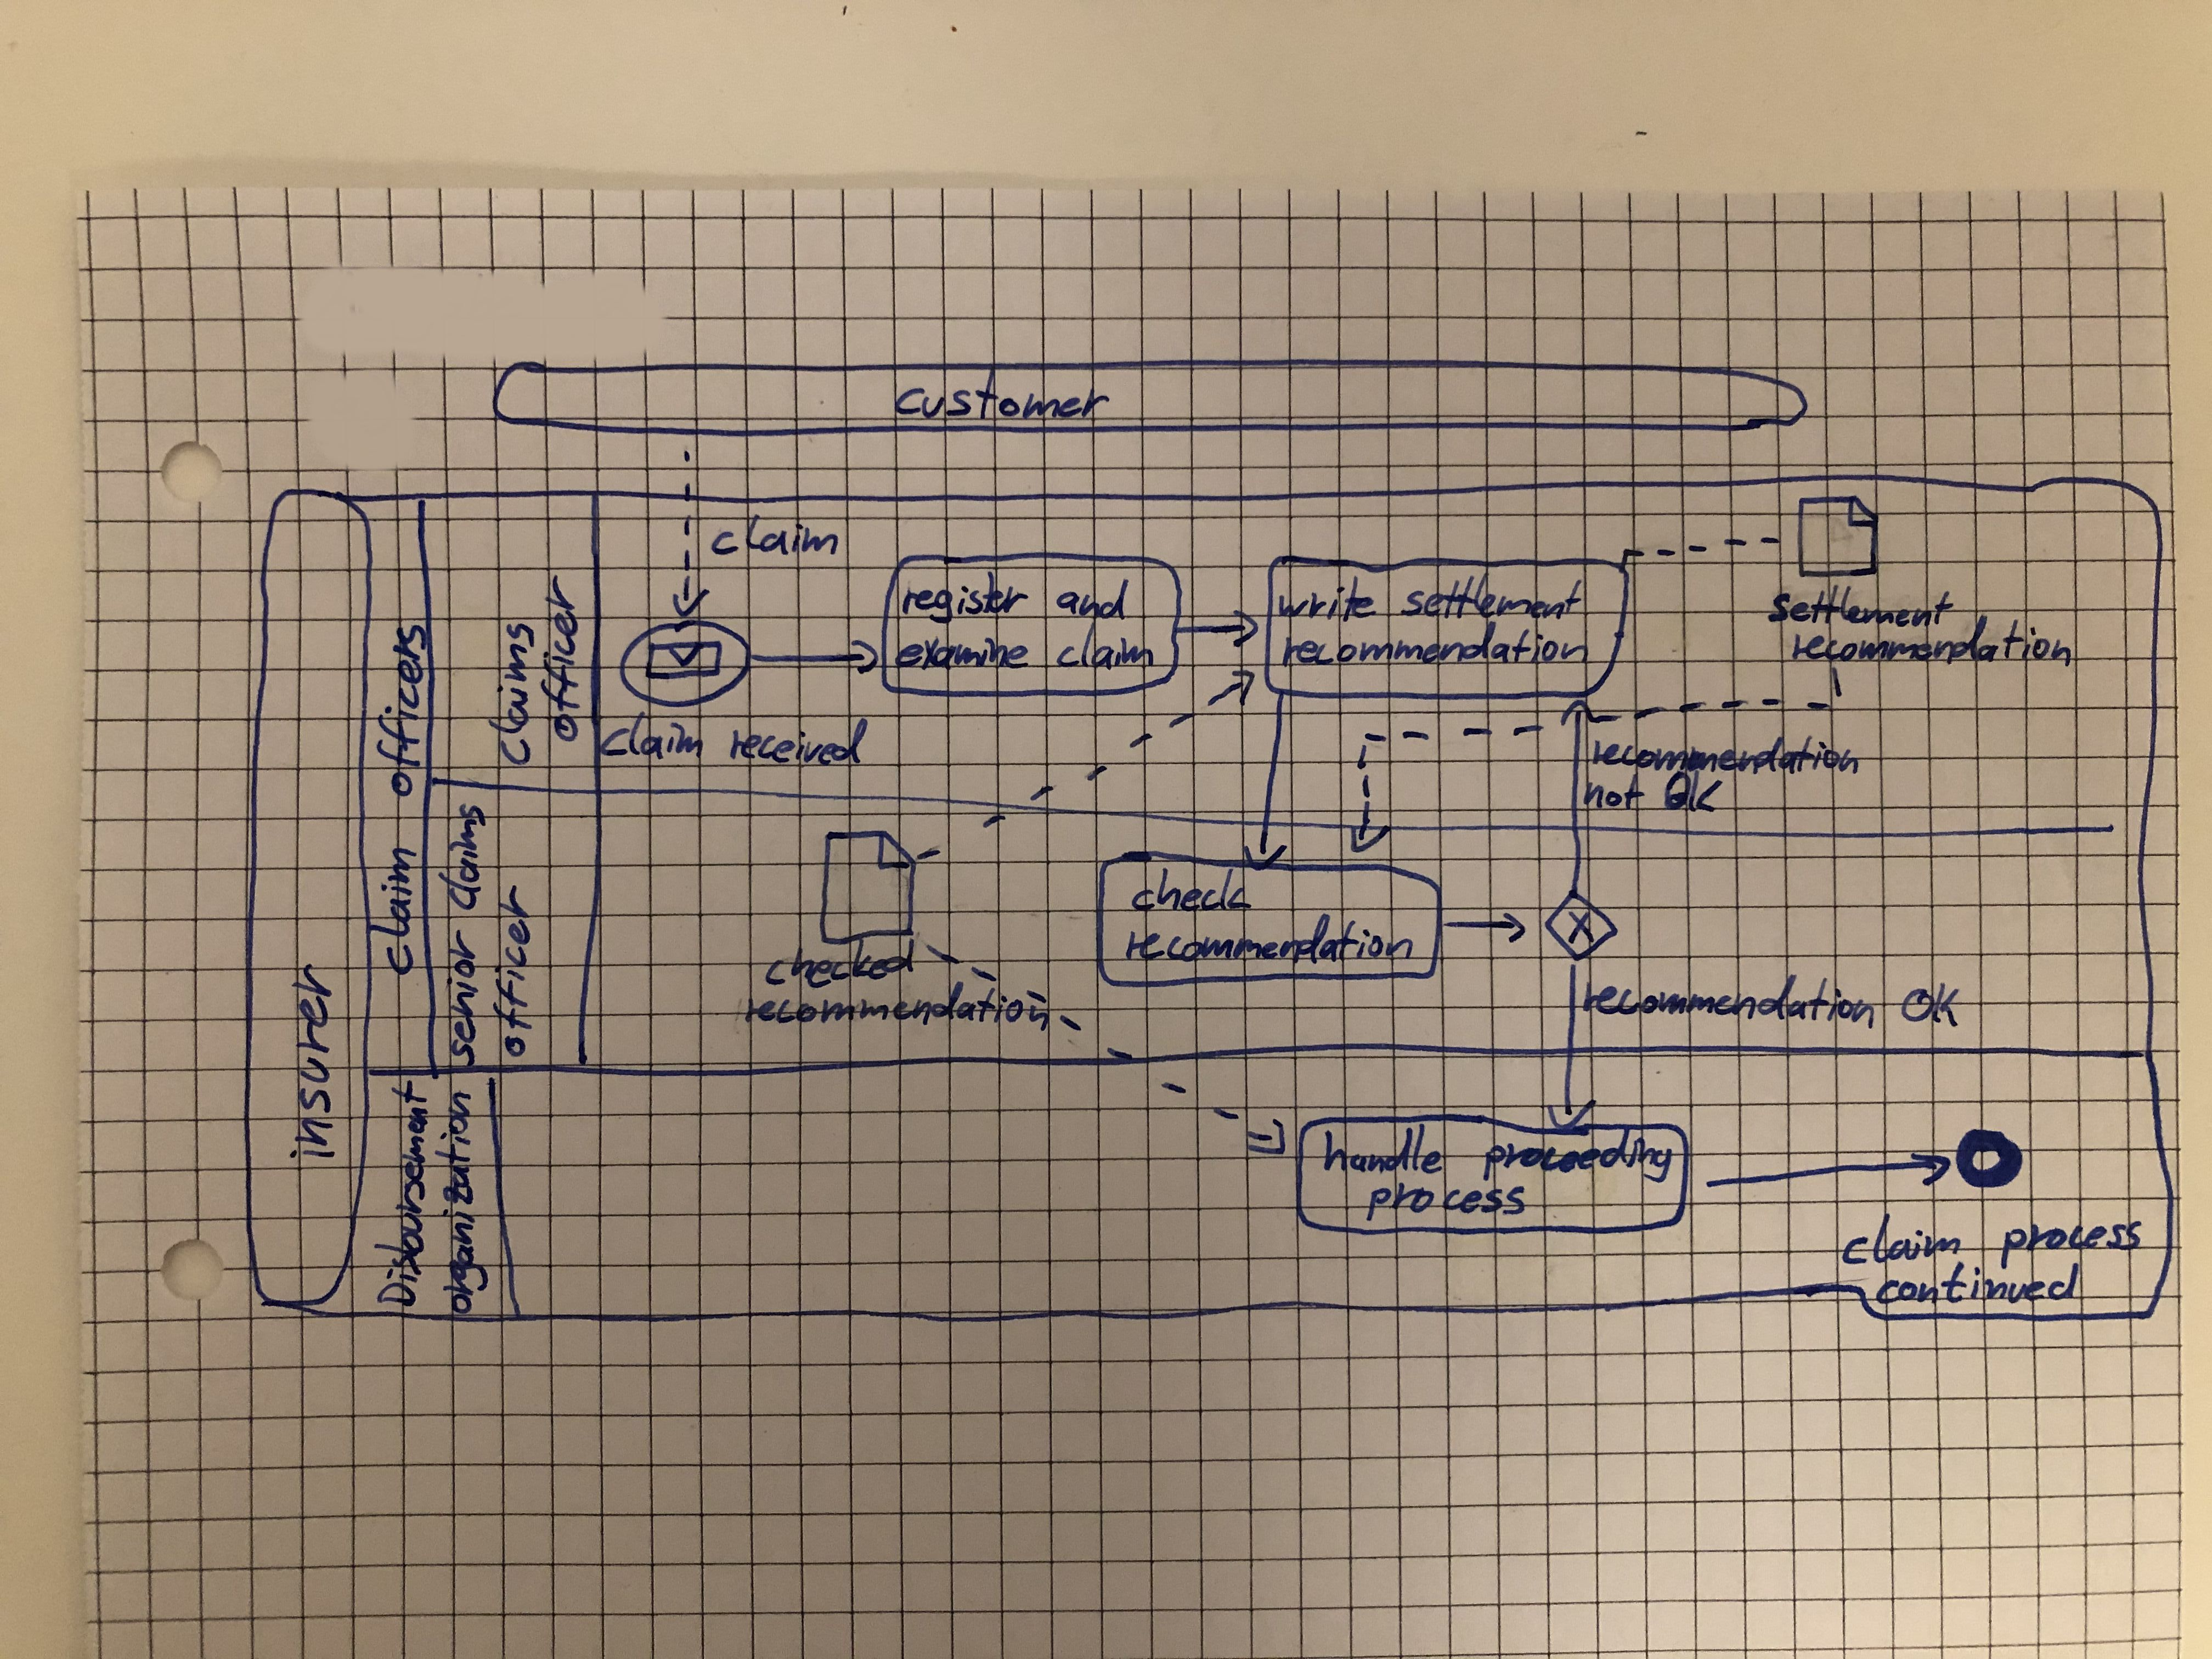Disbursement: (368, 1077, 434, 1309)
OK: (1895, 978, 1966, 1032)
Ok: (1658, 765, 1730, 817)
and: (1050, 573, 1132, 624)
check: (1125, 864, 1256, 917)
checked: (758, 931, 921, 993)
claim: (362, 840, 423, 981), (1834, 1208, 1966, 1270), (707, 509, 843, 563), (594, 706, 709, 765), (1050, 619, 1158, 673)
claims: (479, 615, 540, 774), (432, 796, 493, 917)
continued: (1869, 1256, 2085, 1310)
customer: (890, 359, 1115, 425)
examine: (890, 631, 1035, 676)
handle: (1318, 1119, 1451, 1180)
insurer: (282, 957, 343, 1168)
not: (1578, 767, 1649, 816)
officer: (486, 880, 538, 1063), (535, 570, 585, 746)
officers: (371, 619, 434, 803)
organization: (428, 1086, 495, 1317)
proceeding: (1477, 1126, 1679, 1187)
process: (1996, 1215, 2146, 1276), (1360, 1176, 1531, 1227)
received: (725, 713, 873, 772)
recommendation: (1576, 969, 1881, 1037), (1785, 608, 2080, 674), (740, 976, 1057, 1037), (1277, 615, 1597, 674), (1120, 908, 1420, 971), (1587, 730, 1867, 781)
register: (895, 566, 1035, 629)
senior: (441, 924, 482, 1072)
settlement: (1395, 568, 1588, 626), (1761, 579, 1958, 633)
write: (1273, 570, 1385, 627)
